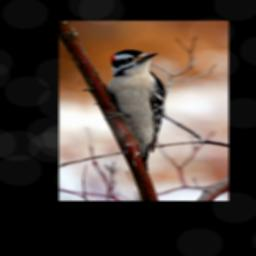Woodpecker: (103, 49, 165, 171)
